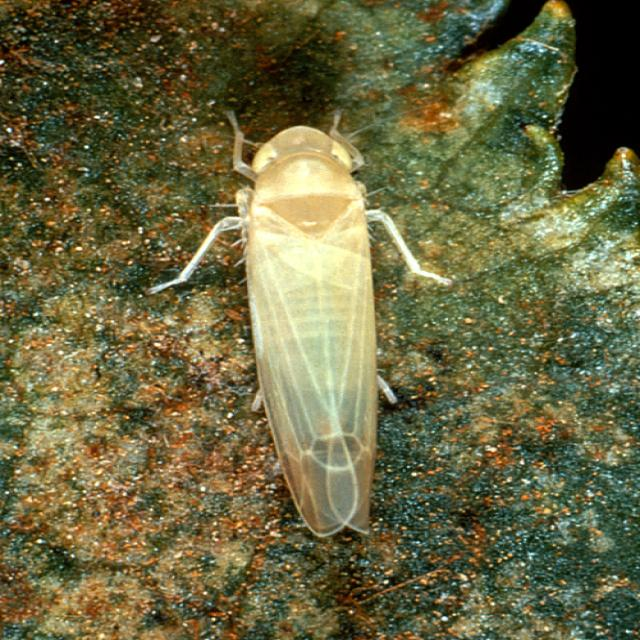Yechan: (167, 90, 435, 547)
